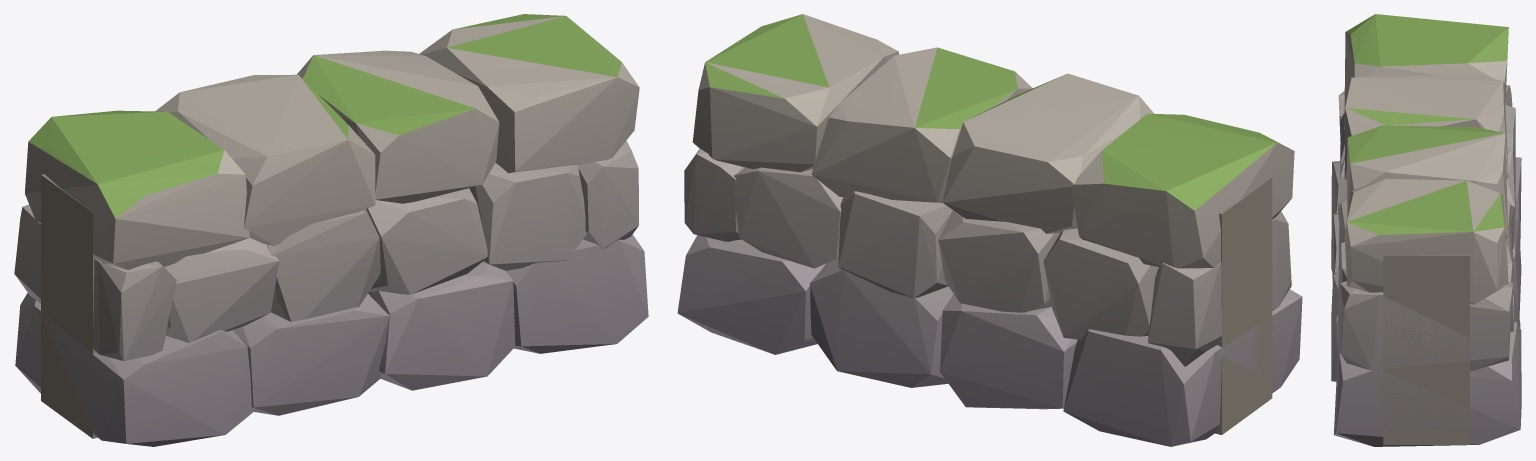
File: stone_wall.glb
3 renders of one model, left to right at view 1: azimuth 30°, elevation 25°; view 2: azimuth 150°, elevation 25°; view 3: azimuth 270°, elevation 25°, orthographic. The views are drawn at different scales.
Parts seen in each view (by area): view 1: stone_wall; view 2: stone_wall; view 3: stone_wall.
Boxes of the visible parts, x1,y1,x2,y2 form: stone_wall: (14, 14, 648, 446); stone_wall: (677, 14, 1302, 446); stone_wall: (1331, 14, 1521, 446).
Size of the model in its own units: 2 by 0.9673 by 0.7477.
